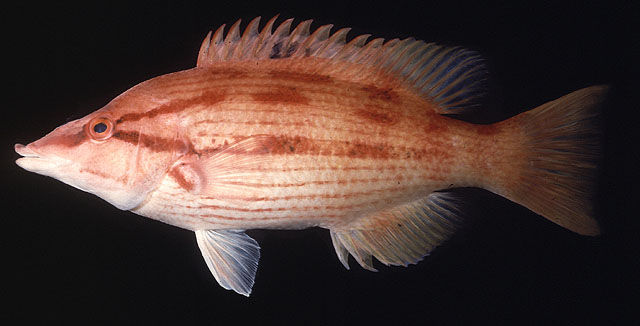fish: (15, 15, 609, 299)
